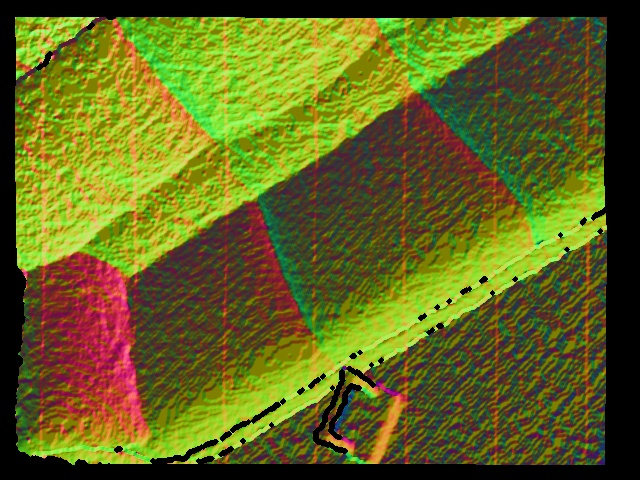station: (314, 368, 411, 465)
